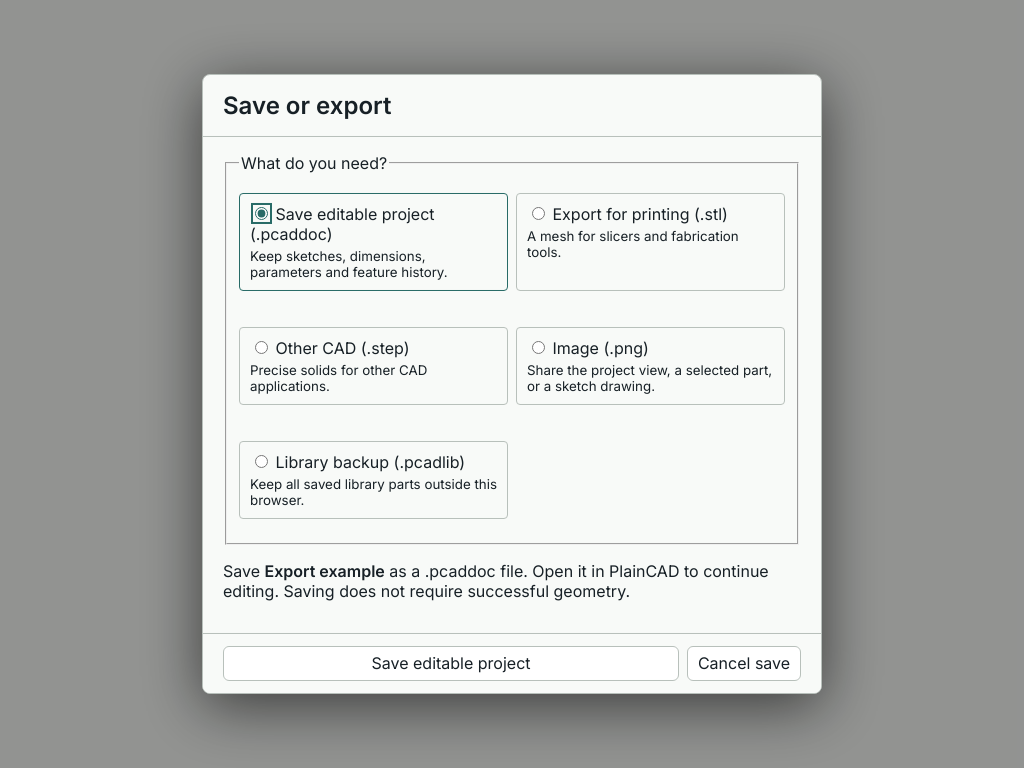
Scenario: does not report a replaced document as saved during an asynchronous project download
Click the button "Save editable project" at (451, 663), box [223,646,679,681]
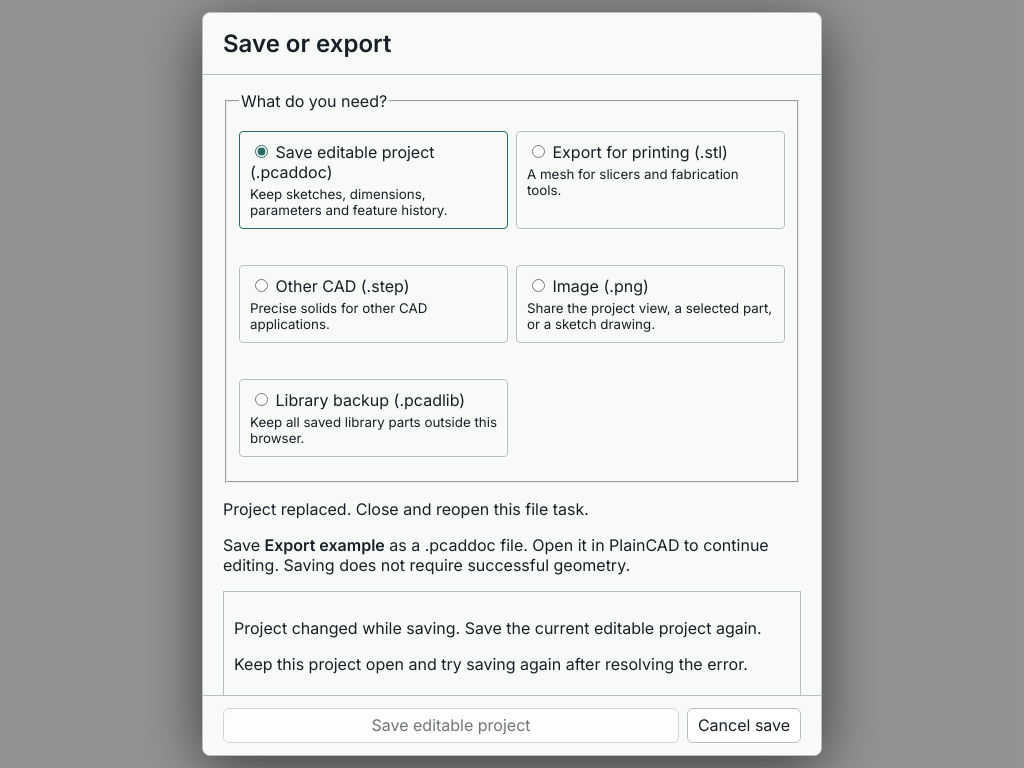
Expected: the dialog is shown, [202,12,822,756]
Now the element named "Save diagnostic" shows "Project changed while saving", box [234,618,762,638]
Now the button "Save editable project" is disabled, box [223,708,679,743]
